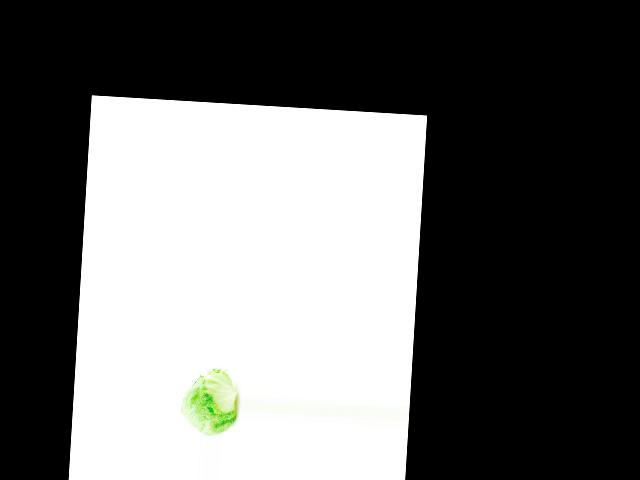lettuce: (177, 366, 239, 439)
